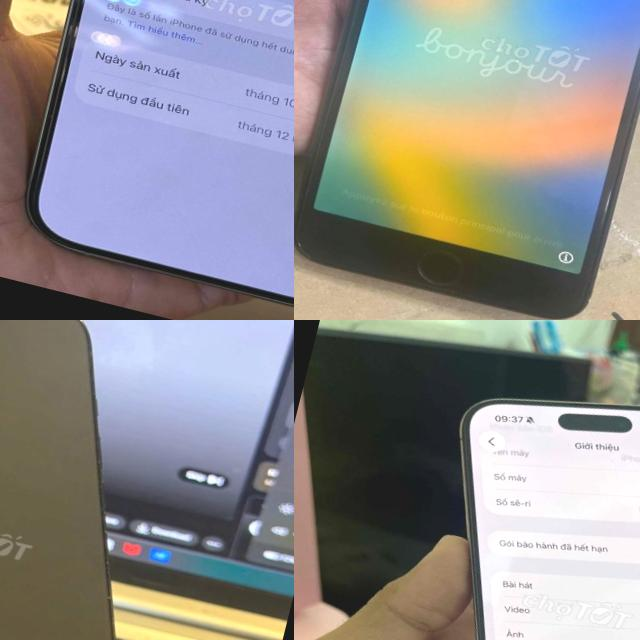scratch: (294, 0, 640, 320)
